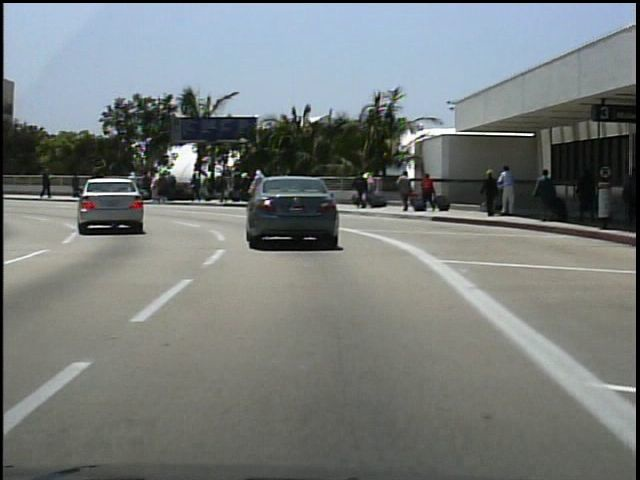person: (532, 166, 559, 225), (572, 162, 596, 223), (480, 168, 501, 222), (498, 163, 518, 218), (396, 169, 416, 214), (421, 170, 439, 213), (353, 170, 371, 211), (88, 167, 109, 197), (39, 165, 56, 200), (71, 169, 86, 198)
